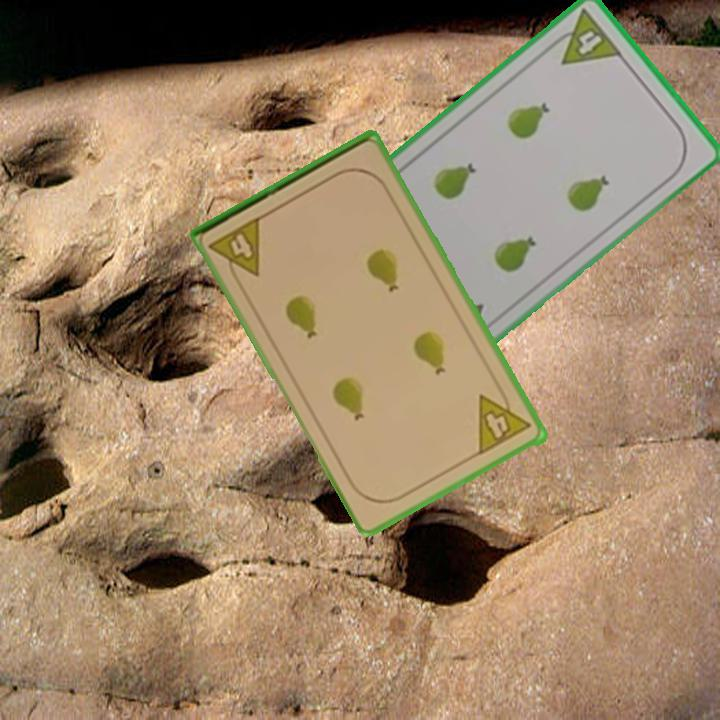4p: (544, 5, 625, 68), (474, 382, 534, 458), (205, 212, 265, 288)
